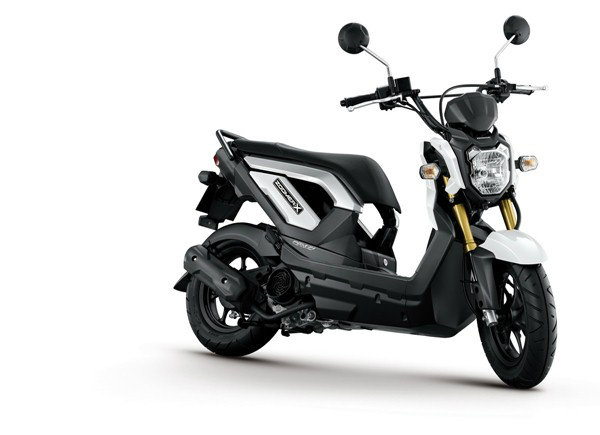motorcycle: (171, 14, 558, 394)
